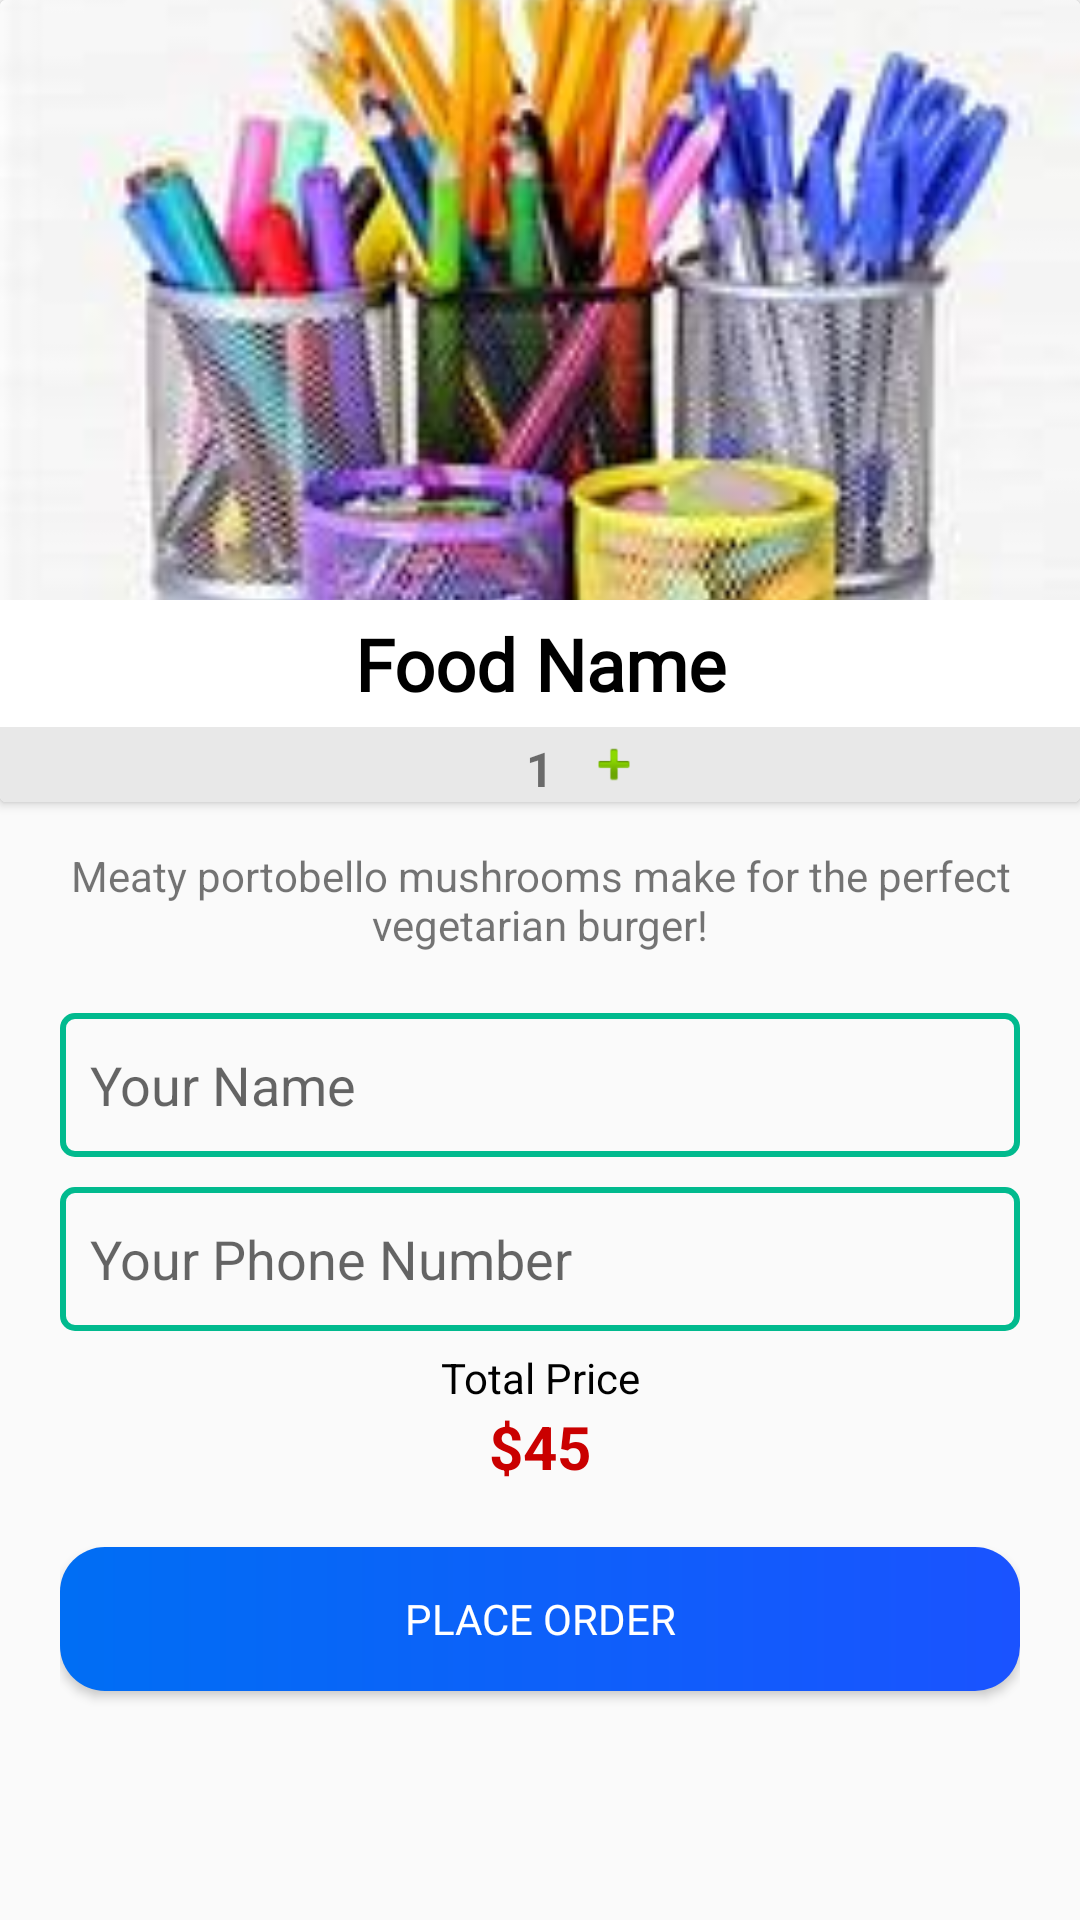

Where icons sit on this 1080×1920 app screen, as (x1, y1, x2, y2):
add: (598, 748, 630, 781)
